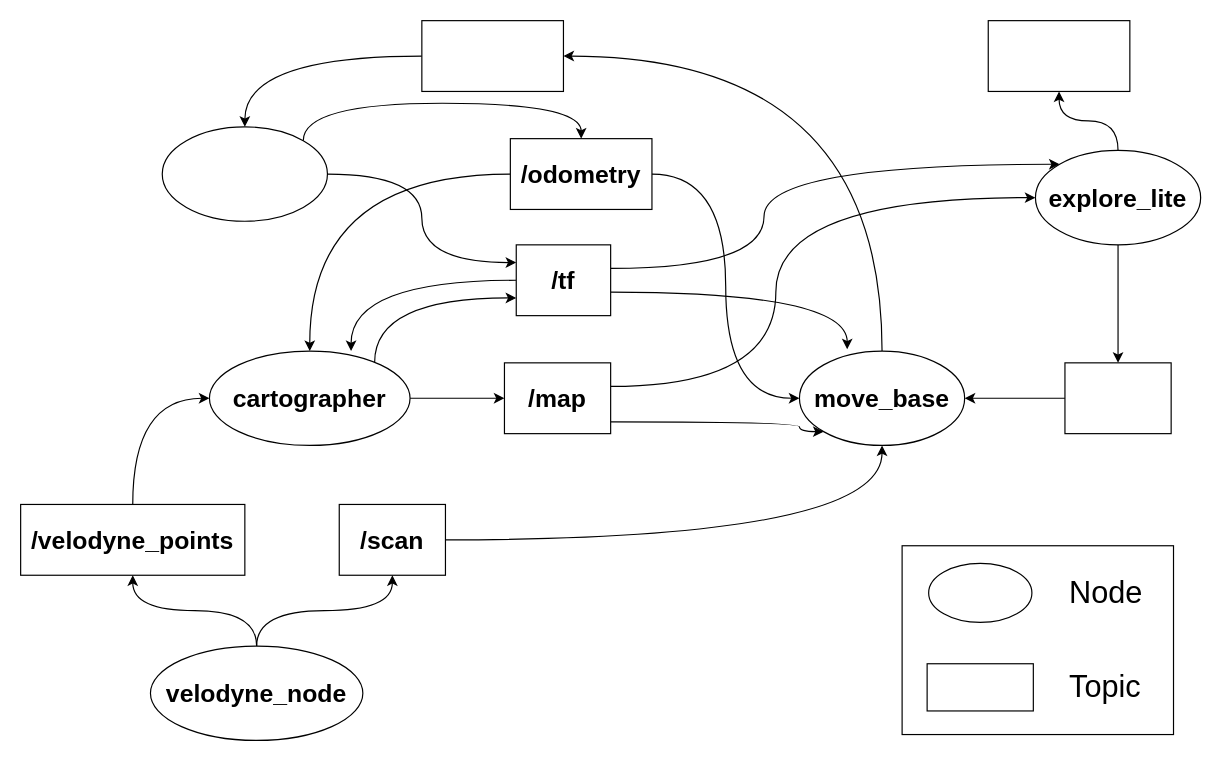
The diagram is 1221 pixels wide and 761 high, and some of its shapes have lost their labels. Each missing label, with the centre of its shape:
"/cmd_vel" goes at point (492, 55).
"/frontiers" goes at point (1058, 55).
"/goal" goes at point (1117, 398).
"spot_driver" goes at point (244, 173).
